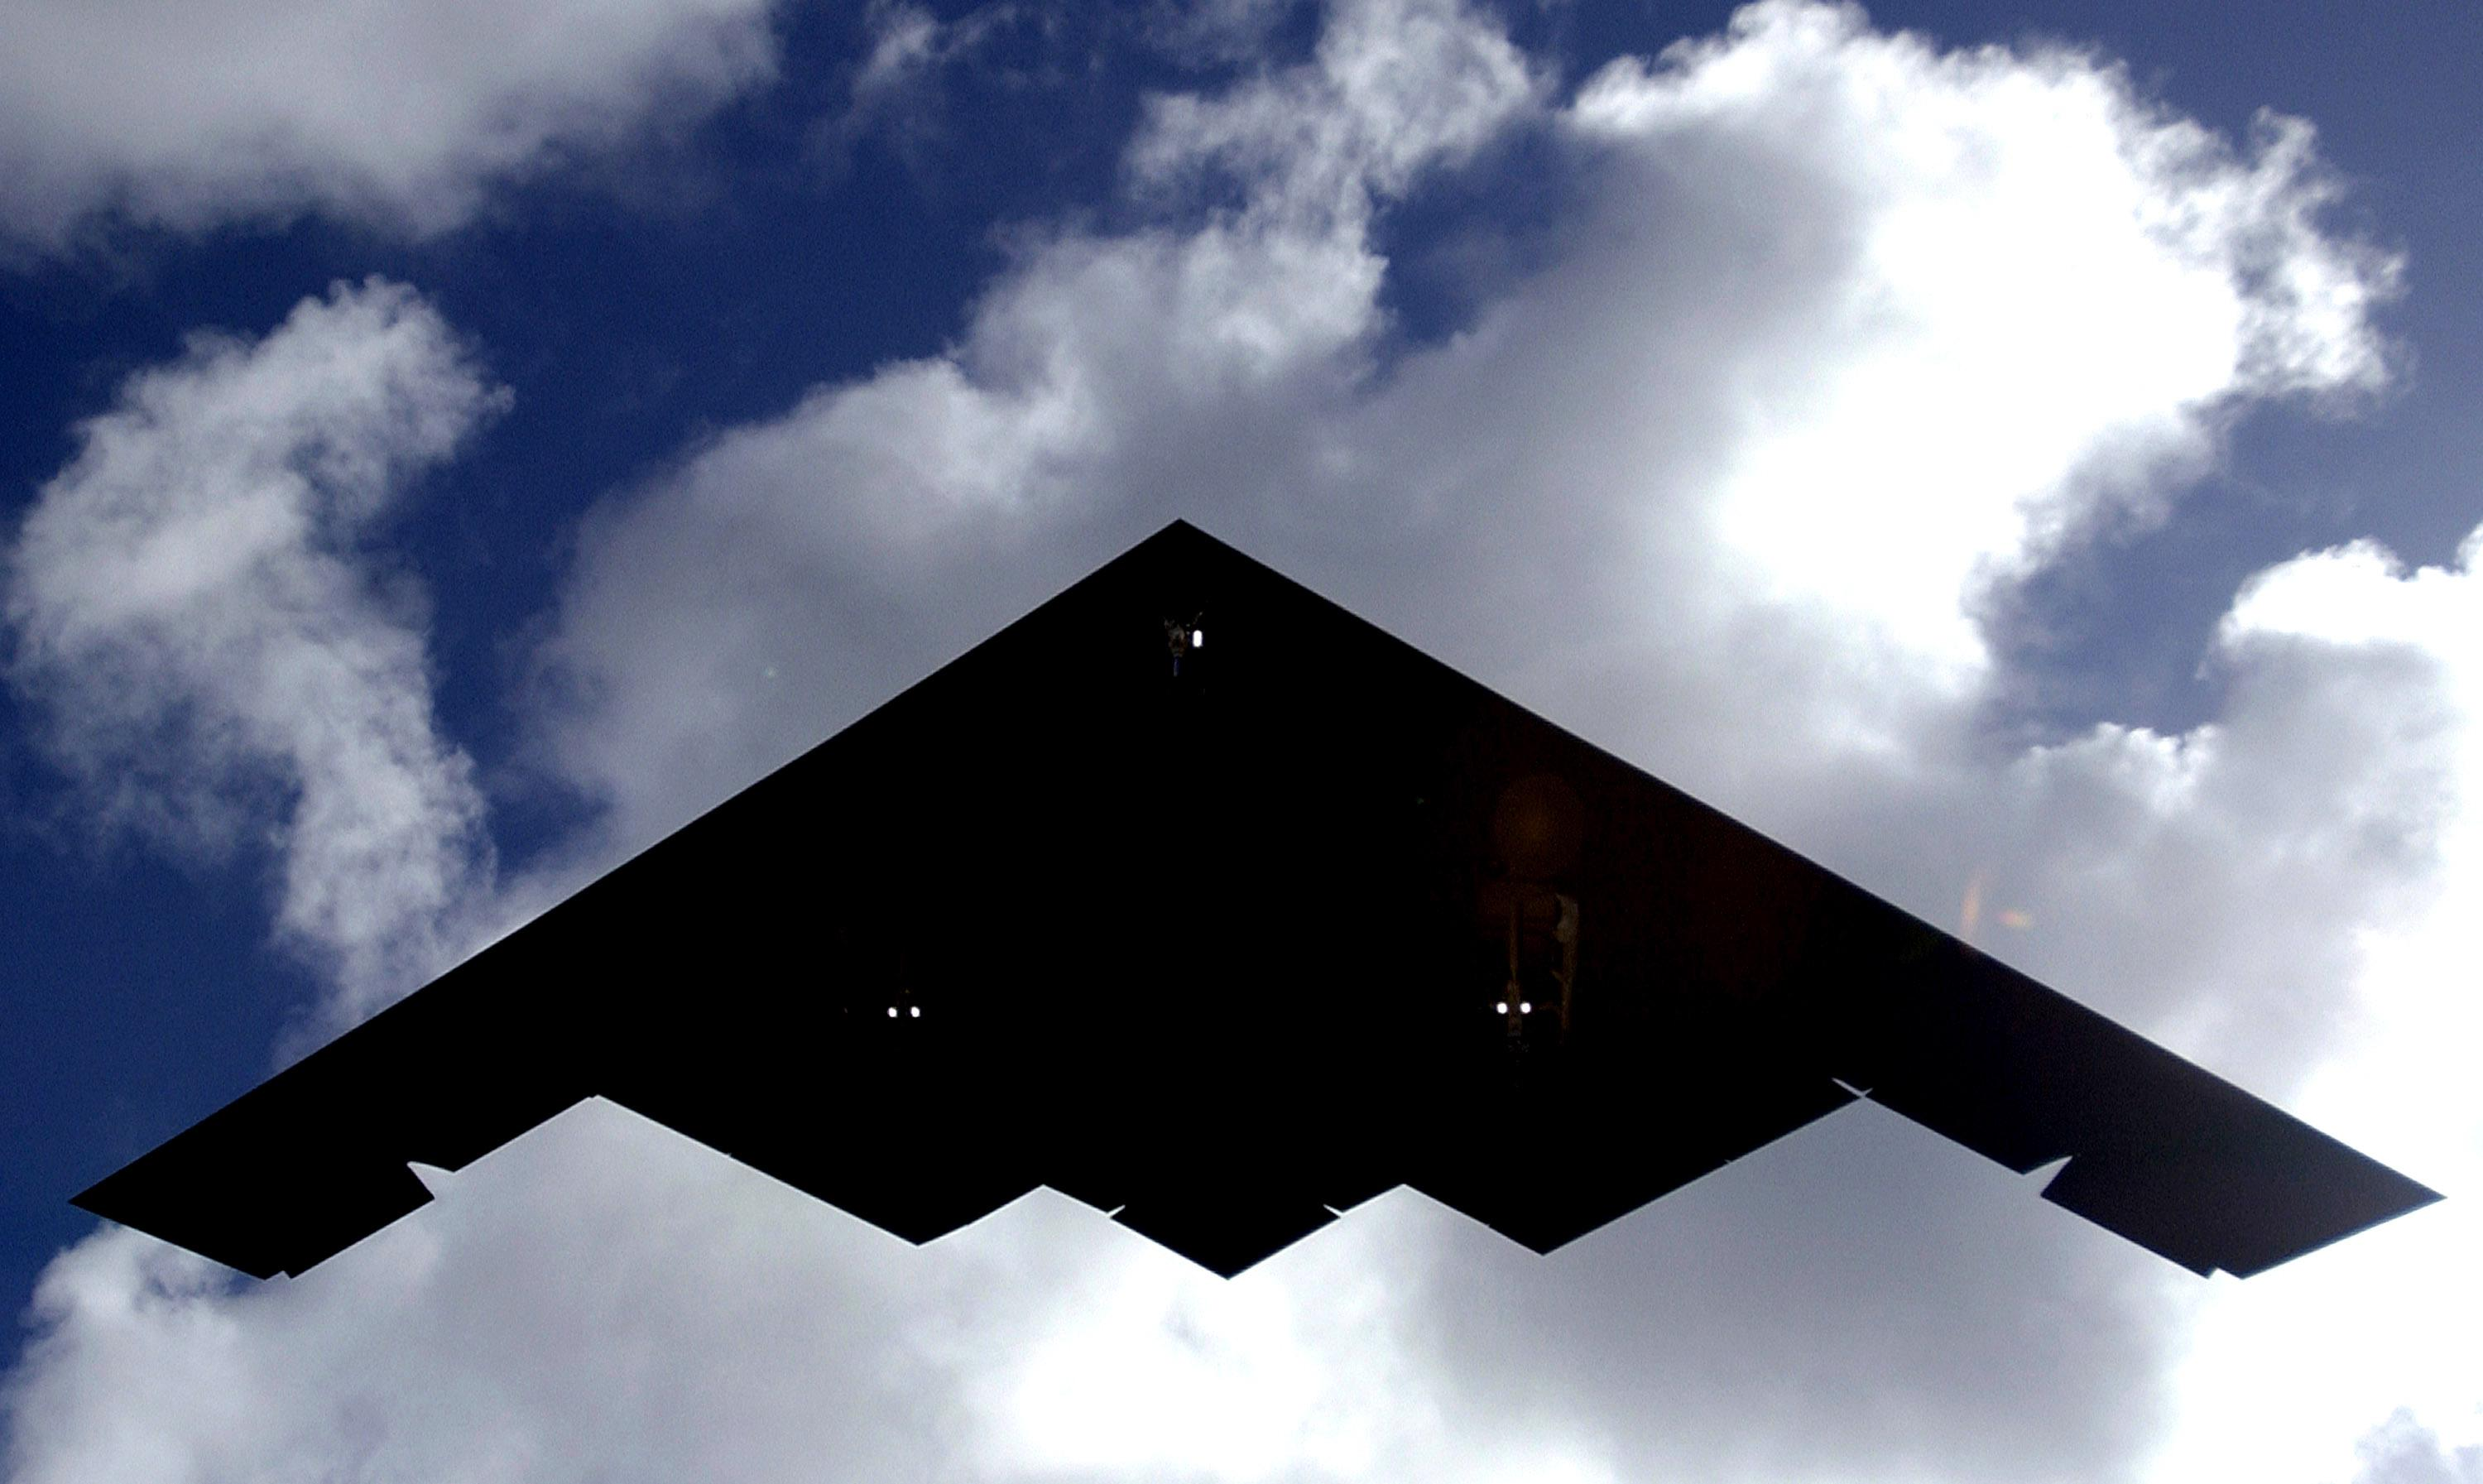B2: (65, 518, 2451, 1283)
